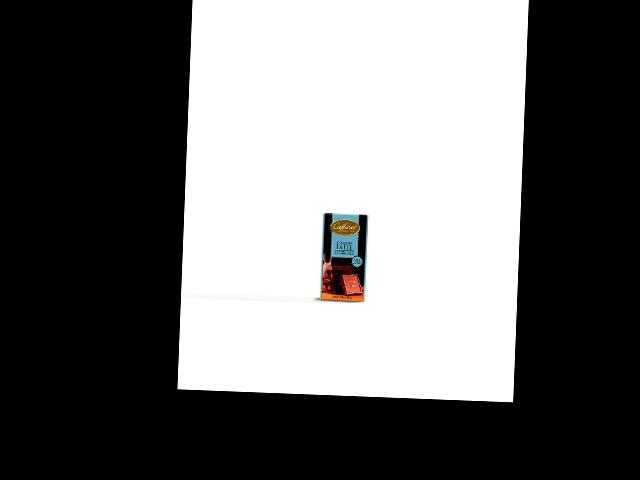chocolate: (318, 212, 369, 302)
